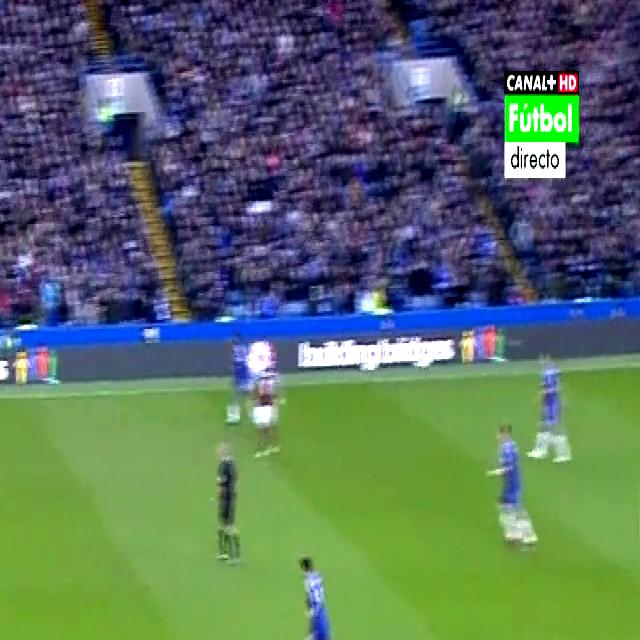referee: (208, 431, 248, 555)
soccer-player: (483, 409, 538, 569), (282, 540, 353, 640), (531, 340, 579, 476), (245, 354, 289, 464)
